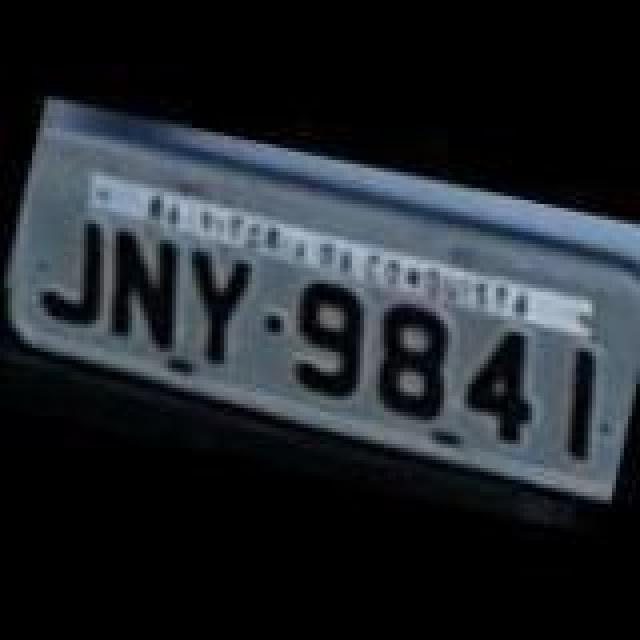1: (540, 338, 616, 466)
4: (446, 318, 550, 454)
8: (360, 296, 460, 432)
9: (280, 272, 380, 408)
J: (24, 204, 124, 340)
N: (92, 222, 192, 358)
Y: (168, 240, 260, 380)
